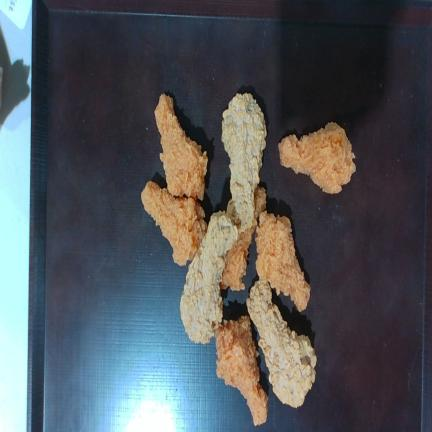chicken: (246, 274, 316, 407), (221, 94, 266, 230), (216, 316, 268, 425), (155, 94, 208, 199), (141, 181, 207, 265), (255, 211, 310, 311), (278, 122, 355, 193)
